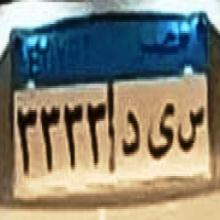3: (40, 104, 62, 172), (62, 99, 83, 170), (17, 105, 38, 171), (87, 95, 106, 164)
daal: (122, 107, 142, 154)
seen: (175, 97, 205, 159)
yaa: (146, 98, 174, 159)
